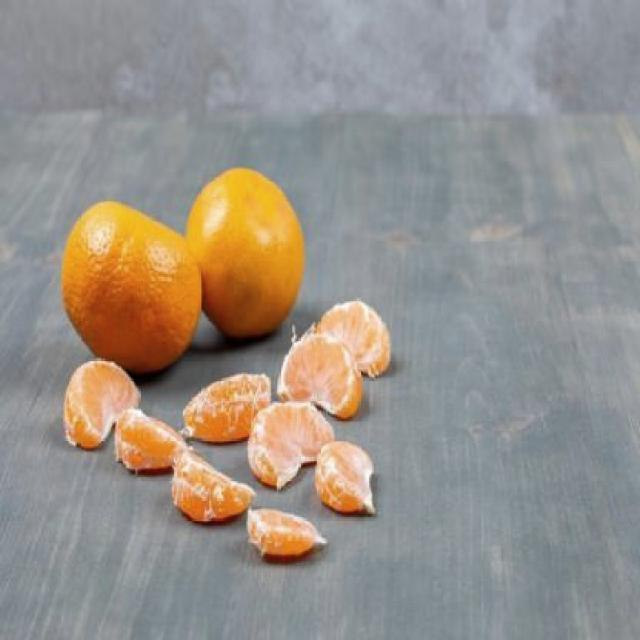Jeruk Sudah Matang: (59, 200, 202, 372), (188, 174, 304, 338)
